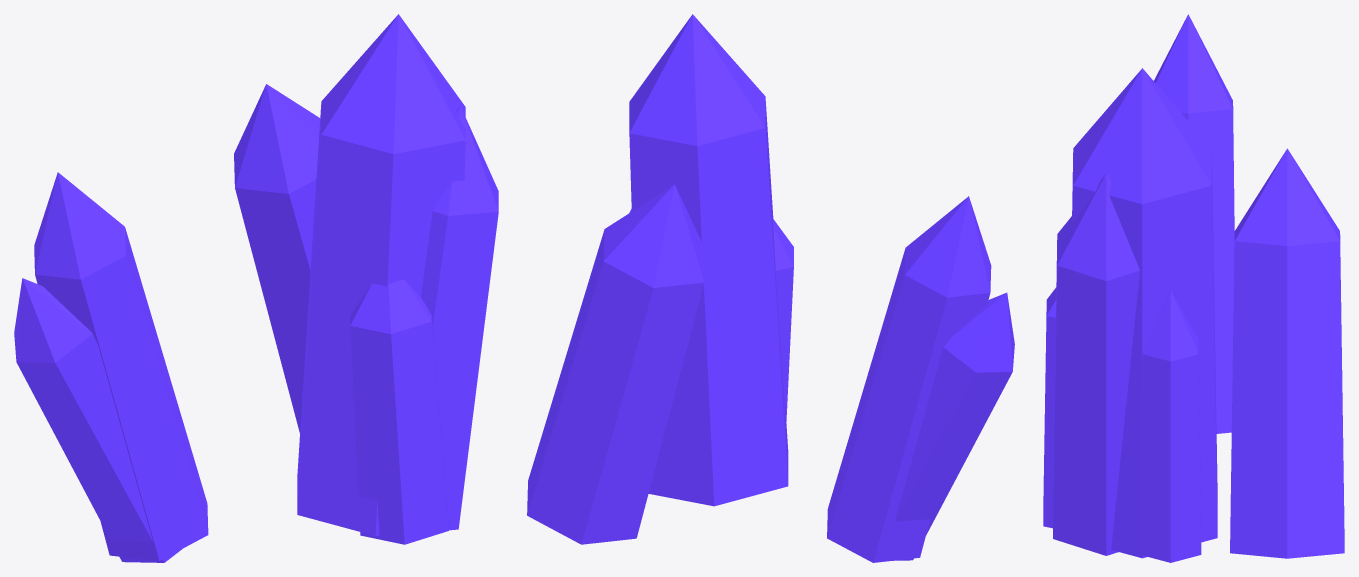
File: prop_crystal_cluster.glb
3 renders of one model, left to right at view 1: azimuth 30°, elevation 25°; view 2: azimuth 150°, elevation 25°; view 3: azimuth 270°, elevation 25°, orthographic. The views are drawn at different scales.
Visible parts, largest first — view 1: prop_crystal_cluster; view 2: prop_crystal_cluster; view 3: prop_crystal_cluster.
Boxes of the visible parts, bbox=[...] form: prop_crystal_cluster: bbox=[14, 14, 498, 562]; prop_crystal_cluster: bbox=[527, 14, 1014, 562]; prop_crystal_cluster: bbox=[1043, 14, 1344, 562].
Bounding box in the file's own units: 3.63 × 3.79 × 2.15.
